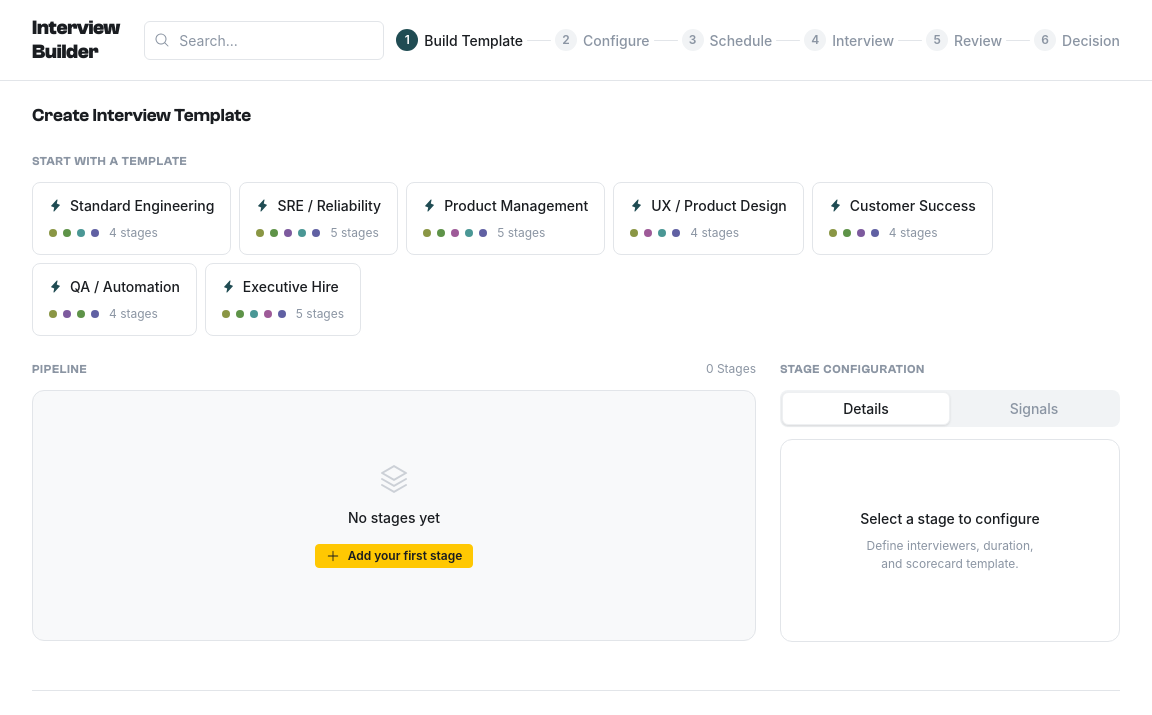
Scenario: Builder page › switches back to Details tab when clicked
Click the button "Signals" at {"x": 1034, "y": 408}, box 950,392 -> 1118,424
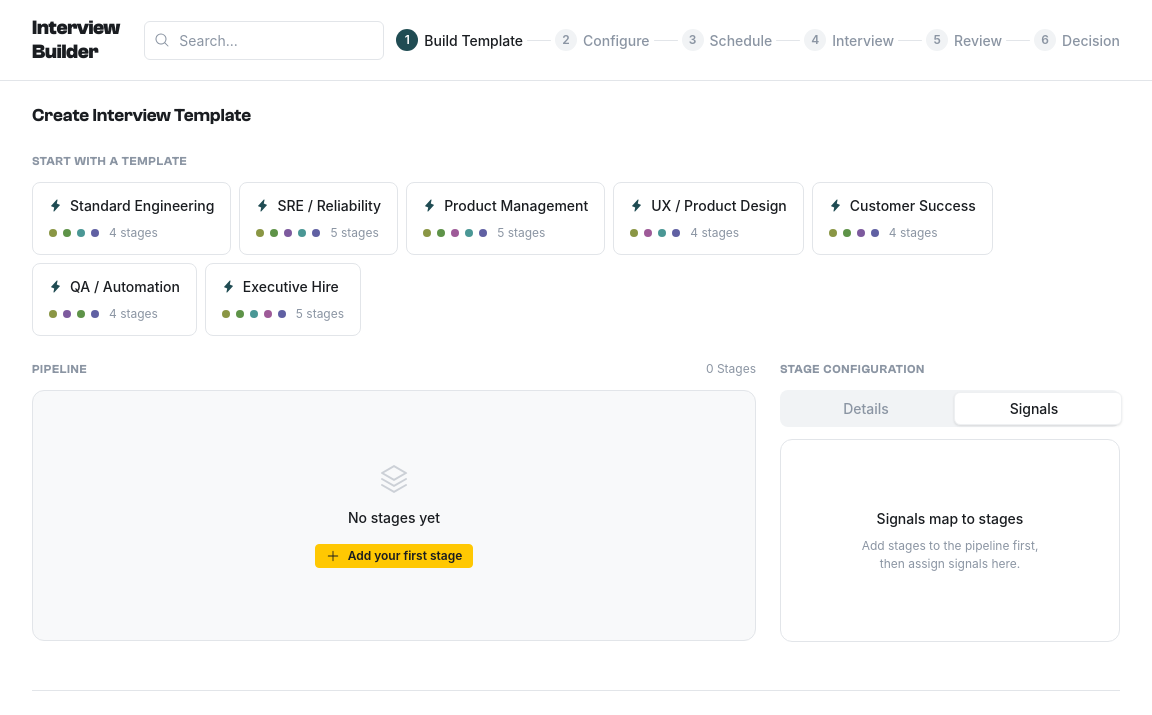
Click the button "Details" at {"x": 866, "y": 408}, box 782,392 -> 950,424
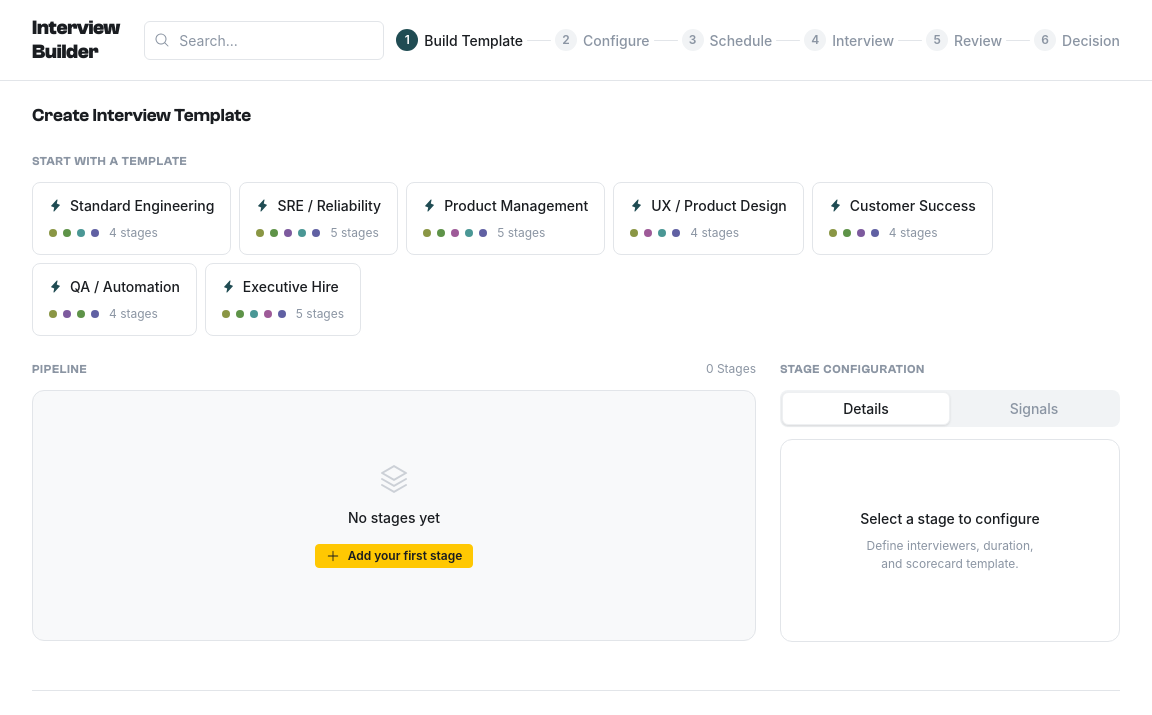
Result: the text "Select a stage to configure" is shown at 860,508 -> 1040,528
